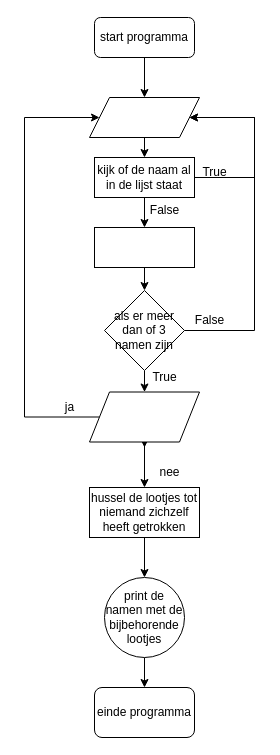
Image size: 280x755. Some labels were removed from this diagram. Here are the shapes that lost their labels. From the top down, the box of each, then its label:
(88, 96, 200, 138): vraag een naam
(94, 226, 194, 268): voeg de naam toe aan een lijst
(88, 391, 200, 442): wil je nog een naam toevoegen?
